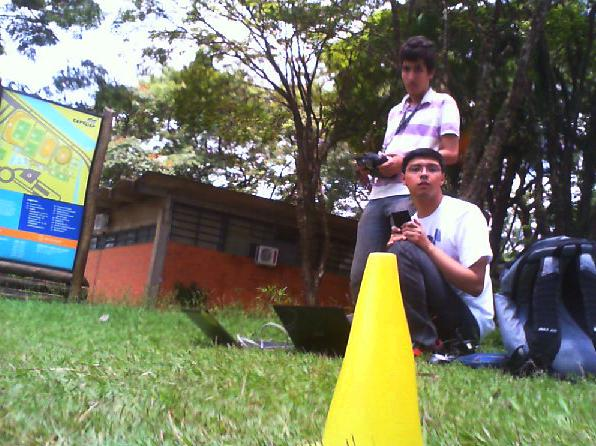0 cone: (298, 253, 424, 446)
